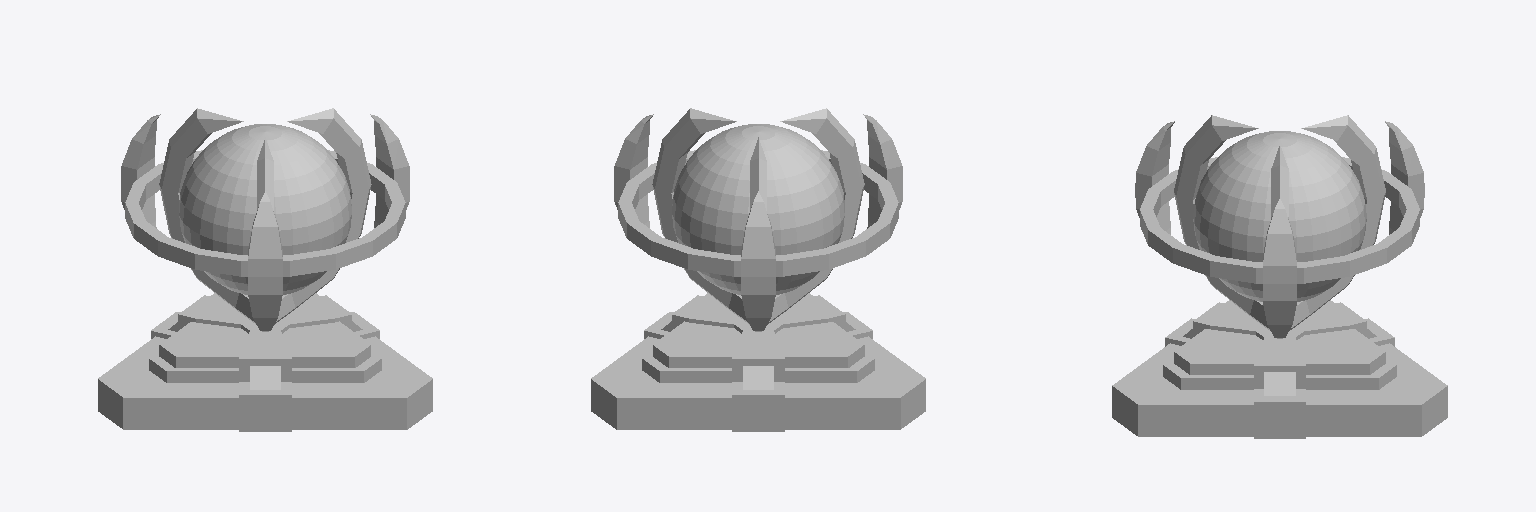
The model's file is Reactor.obj.
The picture shows the model from 3 angles: view 1: azimuth 30°, elevation 25°; view 2: azimuth 150°, elevation 25°; view 3: azimuth 270°, elevation 25°; orthographic projection.
Parts seen in each view (by area): view 1: Cylinder_Cylinder.001, Sphere, Cube.001_Cube.002, Cube_Cube.001; view 2: Cylinder_Cylinder.001, Sphere, Cube.001_Cube.002, Cube_Cube.001; view 3: Cylinder_Cylinder.001, Sphere, Cube.001_Cube.002, Cube_Cube.001.
Boxes of the visible parts, <box> form: Cylinder_Cylinder.001: <box>98,293,432,431</box>; Sphere: <box>179,124,351,294</box>; Cube.001_Cube.002: <box>121,114,409,331</box>; Cube_Cube.001: <box>159,108,371,324</box>; Cylinder_Cylinder.001: <box>591,293,925,431</box>; Sphere: <box>672,124,844,294</box>; Cube.001_Cube.002: <box>614,114,902,331</box>; Cube_Cube.001: <box>652,108,864,324</box>; Cylinder_Cylinder.001: <box>1112,300,1447,438</box>; Sphere: <box>1193,131,1366,301</box>; Cube.001_Cube.002: <box>1135,121,1424,338</box>; Cube_Cube.001: <box>1174,115,1385,329</box>.
Bounding box in the file's own units: 3.86 × 3.27 × 3.86.